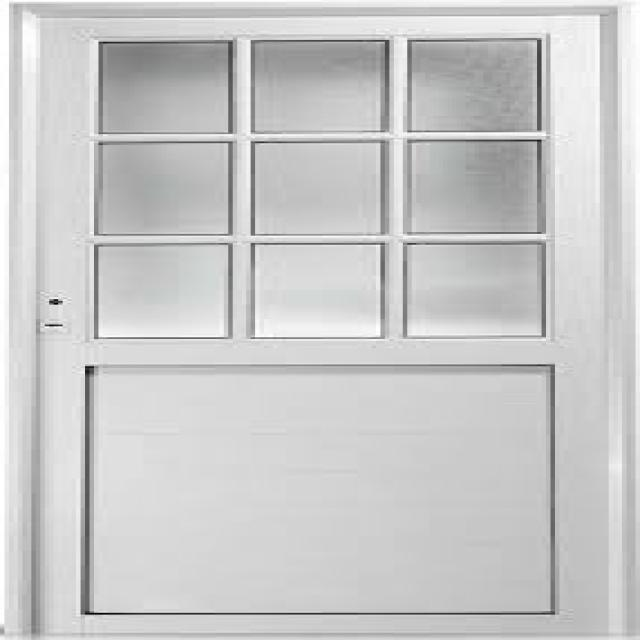door: (9, 1, 636, 636)
